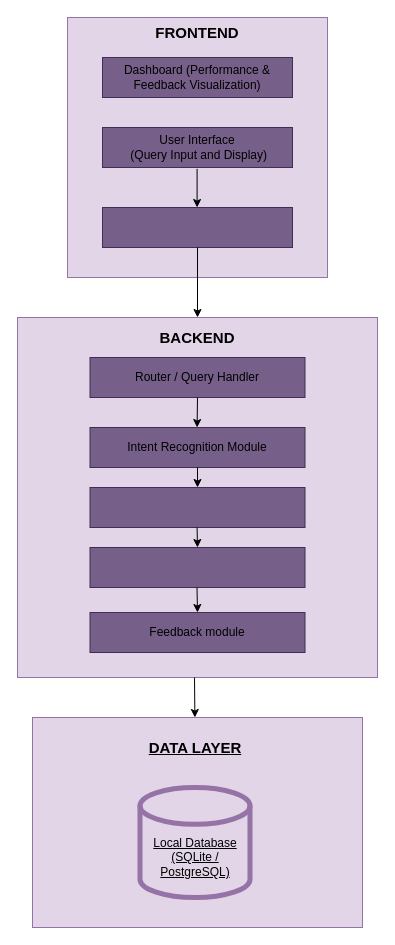
The diagram is 395 pixels wide and 945 high, and some of its shapes have lost their labels. The centre of each missing label's shape, as x and y in pixels:
Model Manager / Orchestrator: [197,507]
Selected Model / Agent Execution: [197,567]
Sends Requests to Backend (via HTTP / LocalHost): [197,227]
